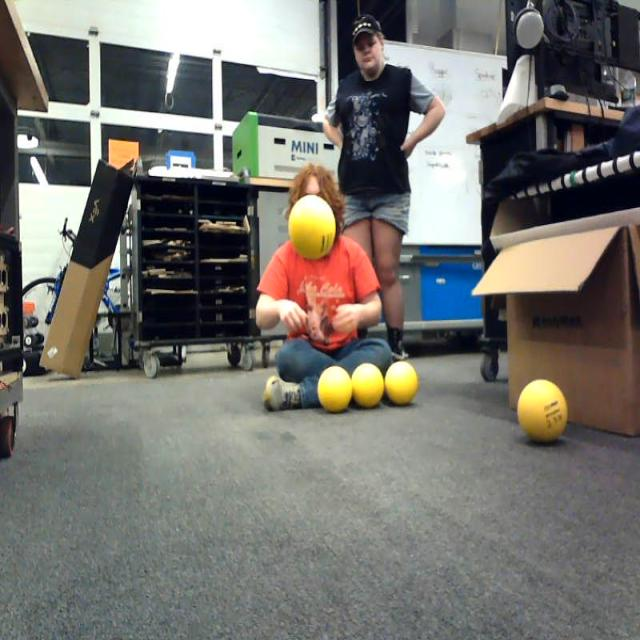Fuel: (288, 195, 336, 261), (517, 380, 568, 442), (384, 361, 420, 406), (350, 363, 385, 408), (318, 366, 352, 412)
